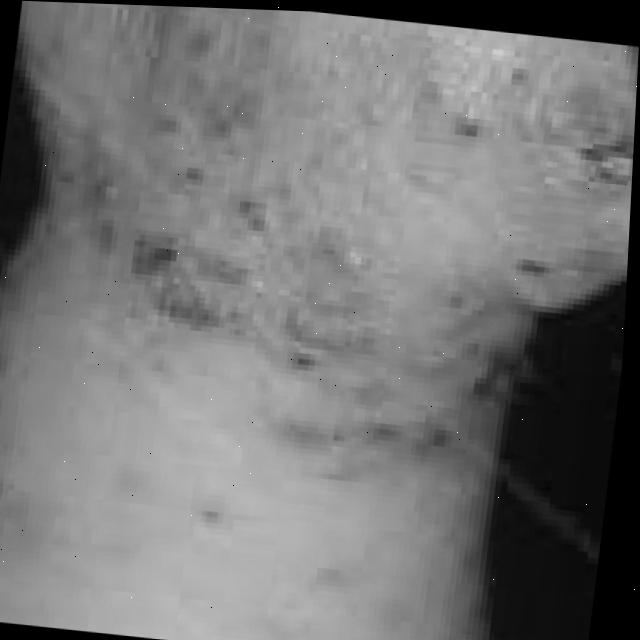Shingles: (48, 174, 486, 433), (560, 125, 635, 192)
